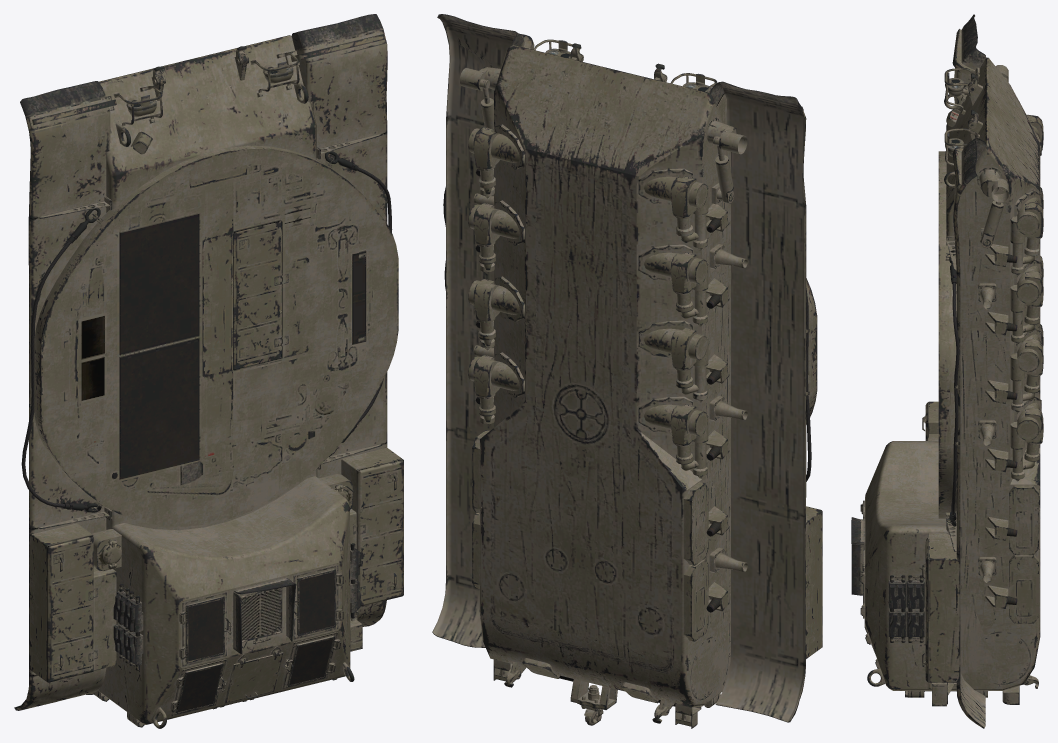
Rendered from Hull.glb.
The picture shows the model from 3 angles, left to right: view 1: azimuth 30°, elevation 25°; view 2: azimuth 150°, elevation 25°; view 3: azimuth 270°, elevation 25°; orthographic projection. The views are drawn at different scales.
Visible parts, largest first — view 1: set_0_group_0; view 2: set_0_group_0; view 3: set_0_group_0.
Part boxes in pixels (x1,y1,x2,y2): set_0_group_0: [14, 14, 403, 728]; set_0_group_0: [432, 14, 822, 728]; set_0_group_0: [851, 14, 1043, 728].
Size of the model in its own units: 3.73 by 6.29 by 1.87.
1 material, 1 textured.
